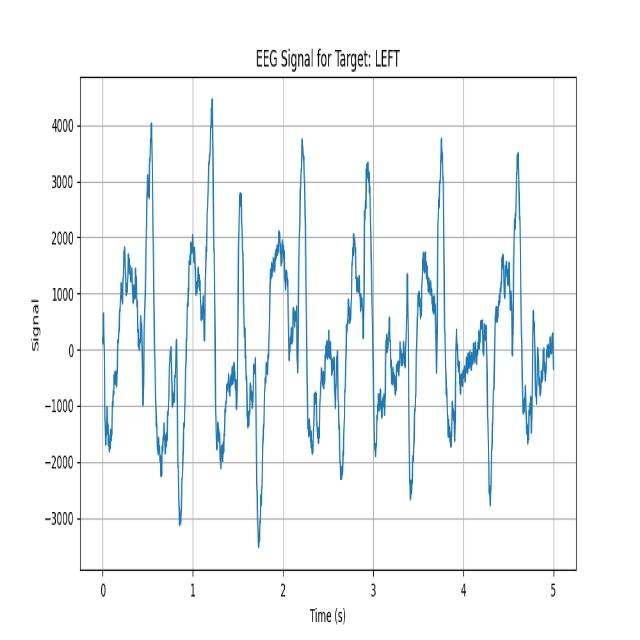LEFT: (107, 122, 186, 526), (397, 128, 463, 512), (474, 129, 536, 529), (265, 131, 331, 504), (332, 127, 396, 505), (185, 85, 231, 504)
